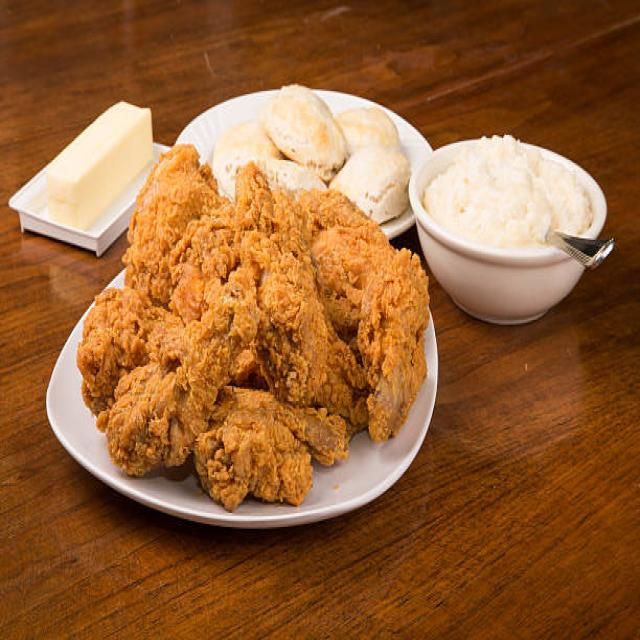Frango: (73, 142, 433, 514)
